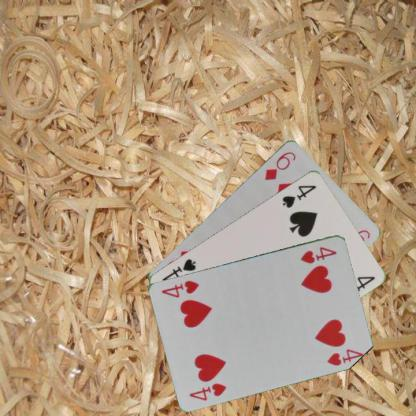4h: (186, 380, 228, 402), (298, 244, 338, 264)
4s: (280, 182, 317, 209)
6d: (262, 148, 297, 181)
